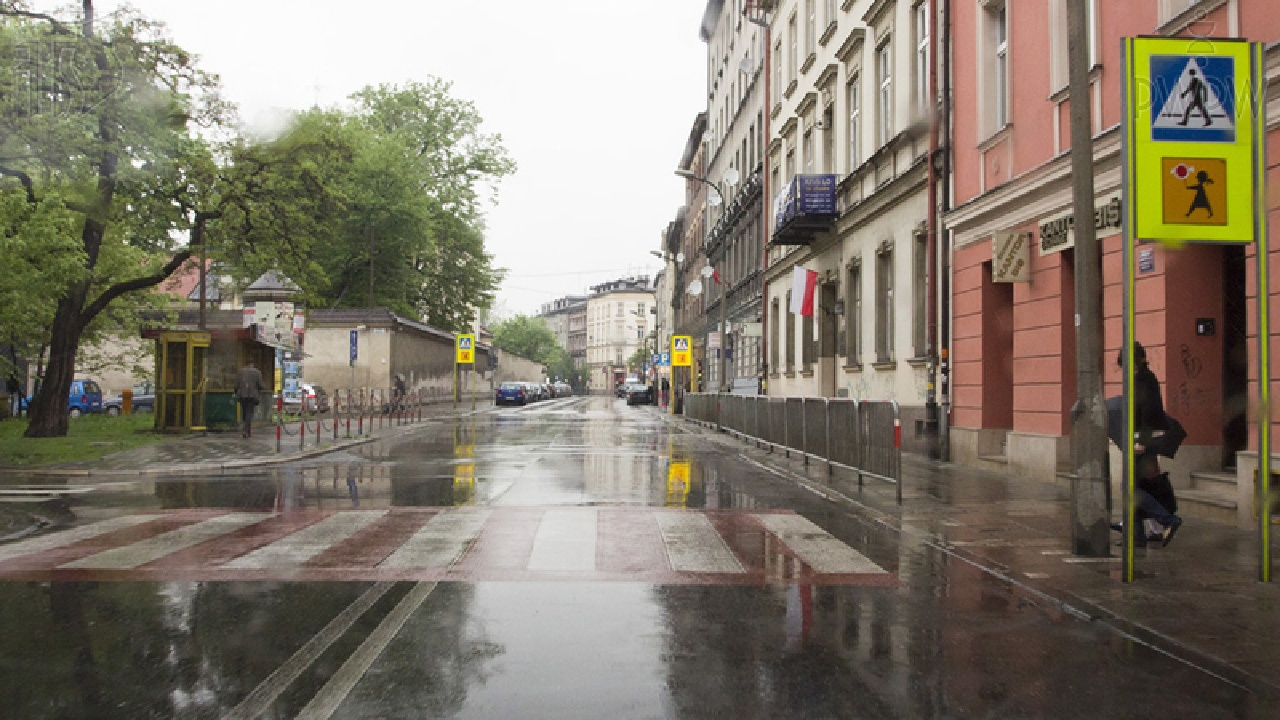D6: (1150, 53, 1237, 143)
